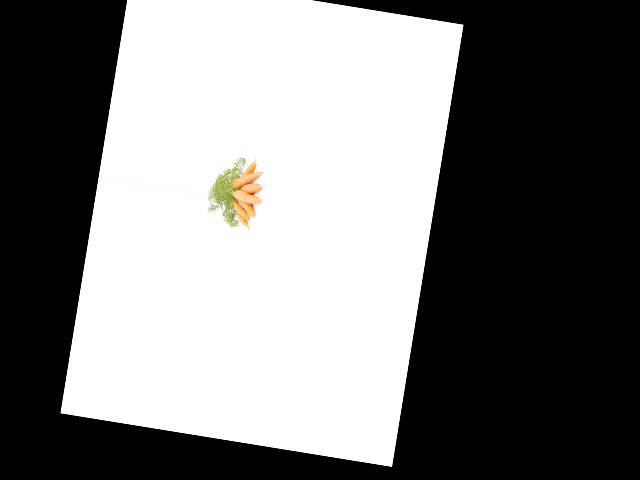carrot: (238, 158, 259, 184)
